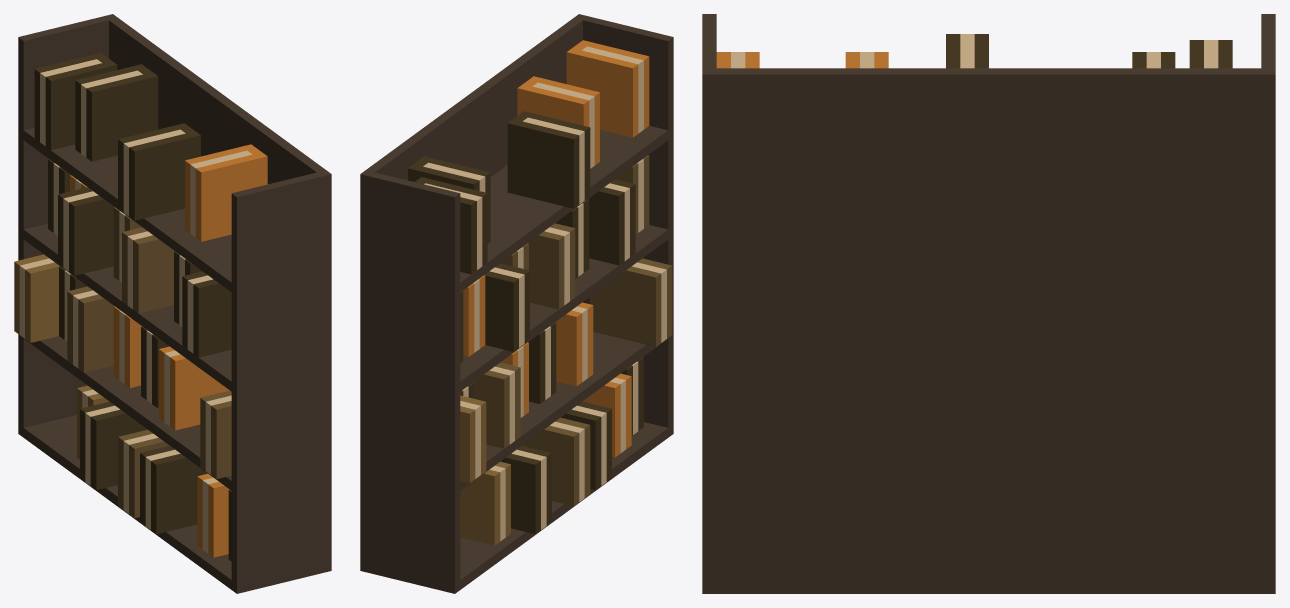
Rendered from medieval_library_bookshelf.obj.
3 renders of one model, left to right at view 1: azimuth 30°, elevation 25°; view 2: azimuth 150°, elevation 25°; view 3: azimuth 270°, elevation 25°, orthographic. The views are drawn at different scales.
Size of the model in its own units: 1.1 by 4 by 4.
1 material, 1 textured.
